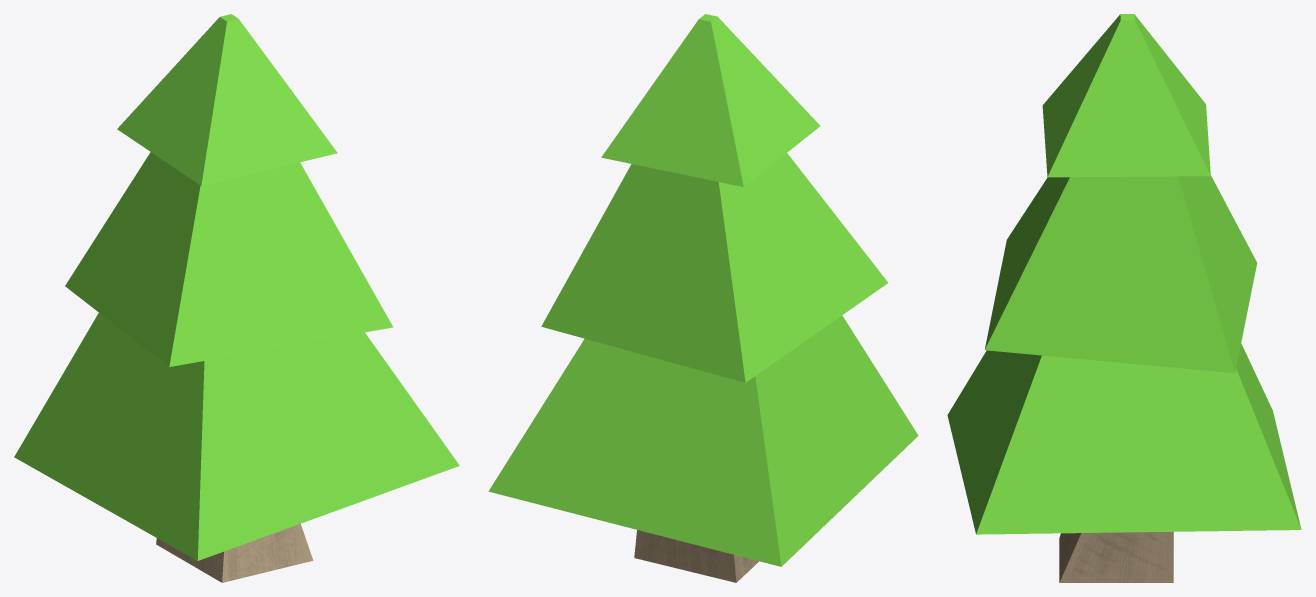
The model's file is tree_A_0000.fbx.
3 views of the same model, side by side, from view 1: azimuth 30°, elevation 25°; view 2: azimuth 150°, elevation 25°; view 3: azimuth 270°, elevation 25° (orthographic).
Parts seen in each view (by area): view 1: Body, Trunk; view 2: Body, Trunk; view 3: Body, Trunk.
Boxes of the visible parts, <box> form: Body: <box>14,14,459,560</box>; Trunk: <box>156,524,313,582</box>; Body: <box>488,14,918,566</box>; Trunk: <box>634,530,758,582</box>; Body: <box>947,14,1301,534</box>; Trunk: <box>1059,531,1173,582</box>.
Bounding box in the file's own units: 760 × 1285 × 762.
